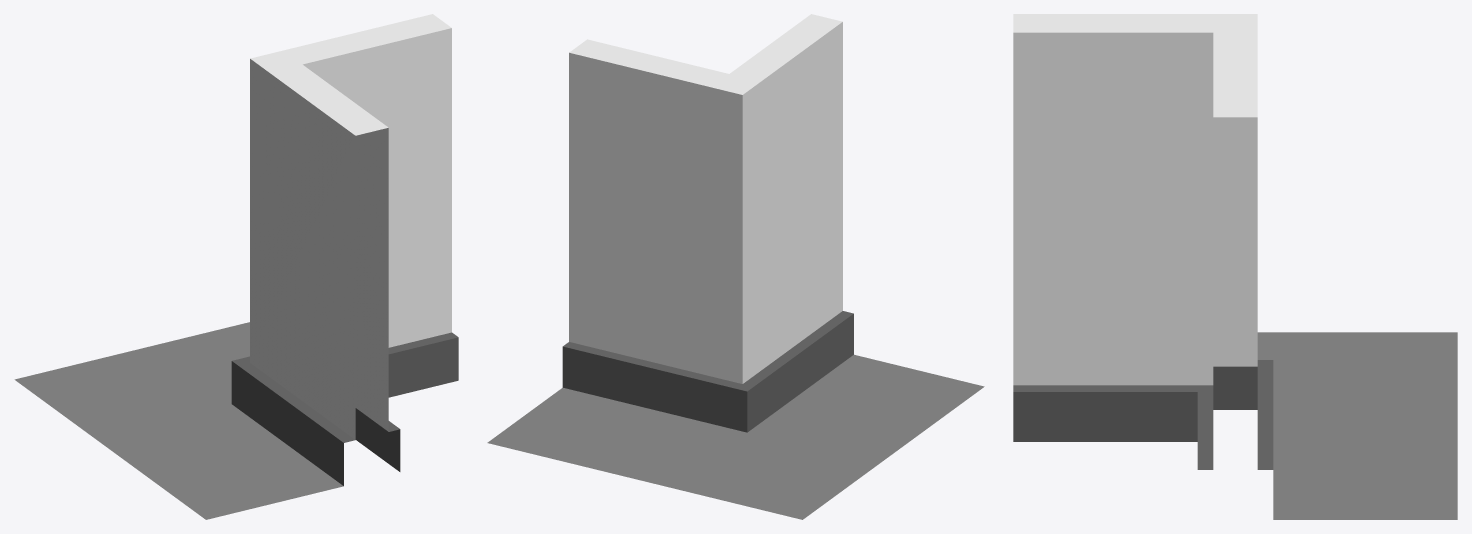
File: I_Wall_L_Shape_Elevator.fbx
3 renders of one model, left to right at view 1: azimuth 30°, elevation 25°; view 2: azimuth 150°, elevation 25°; view 3: azimuth 270°, elevation 25°, orthographic. The views are drawn at different scales.
Parts seen in each view (by area): view 1: I_Wall_L_Shape_Elevator; view 2: I_Wall_L_Shape_Elevator; view 3: I_Wall_L_Shape_Elevator.
Part boxes in pixels (bbox=[...]): I_Wall_L_Shape_Elevator: bbox=[14, 14, 458, 519]; I_Wall_L_Shape_Elevator: bbox=[487, 14, 984, 519]; I_Wall_L_Shape_Elevator: bbox=[1013, 14, 1457, 519].
Bounding box in the file's own units: 200 × 200 × 200.
